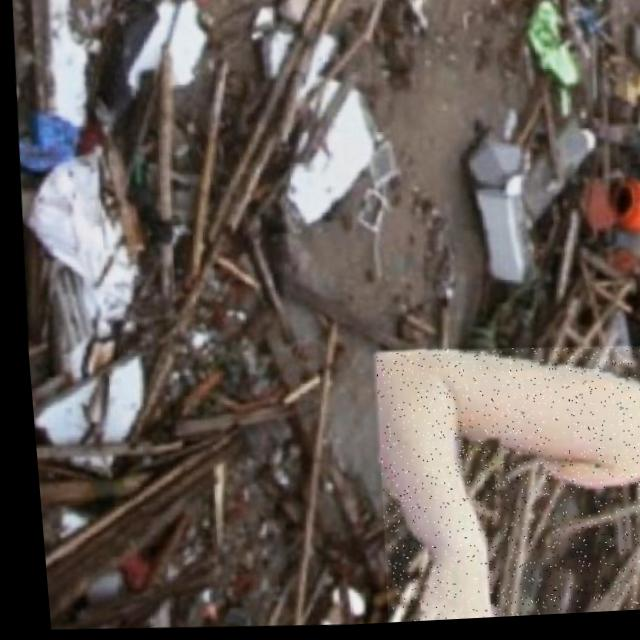Person in Rubble: (359, 342, 640, 626)
